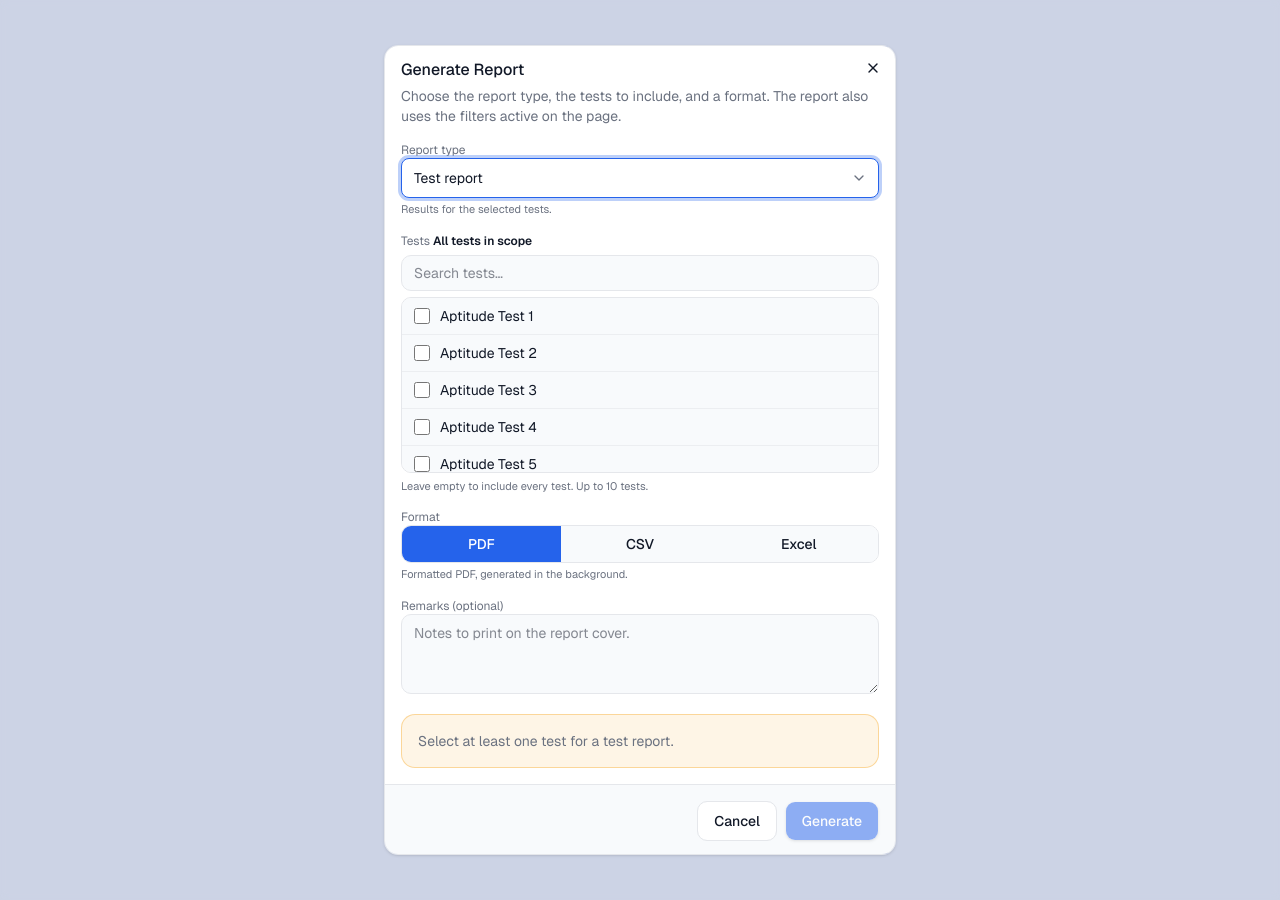
Scenario: ReportBuilderDialog › requires at least one test for a test report
Expected: the button "Generate" is disabled, top-left (785, 801), bottom-right (879, 841)
Click the checkbox labelled "Aptitude Test 2": (422, 353) top-left (414, 345), bottom-right (430, 361)
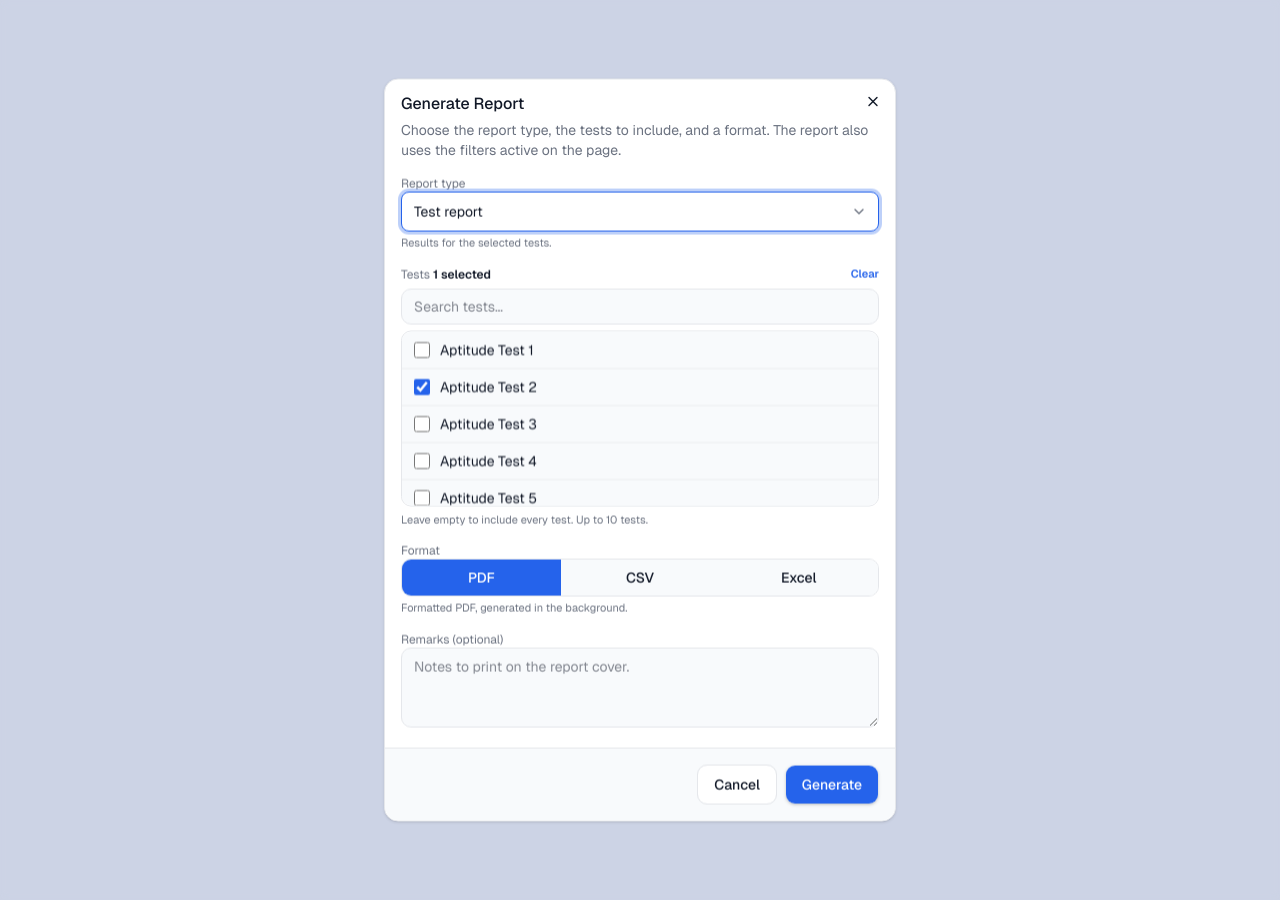
Result: the button "Generate" is enabled at top-left (785, 764), bottom-right (879, 804)
